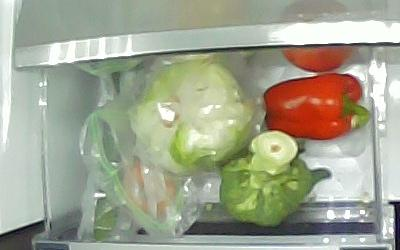apple: (282, 46, 354, 73)
broccoli: (220, 129, 312, 226)
cucumber_vinyl: (95, 70, 124, 242)
lettuce_vinyl: (127, 60, 256, 175)
paprika: (263, 73, 370, 139)
peach_vinyl: (124, 163, 176, 219)
